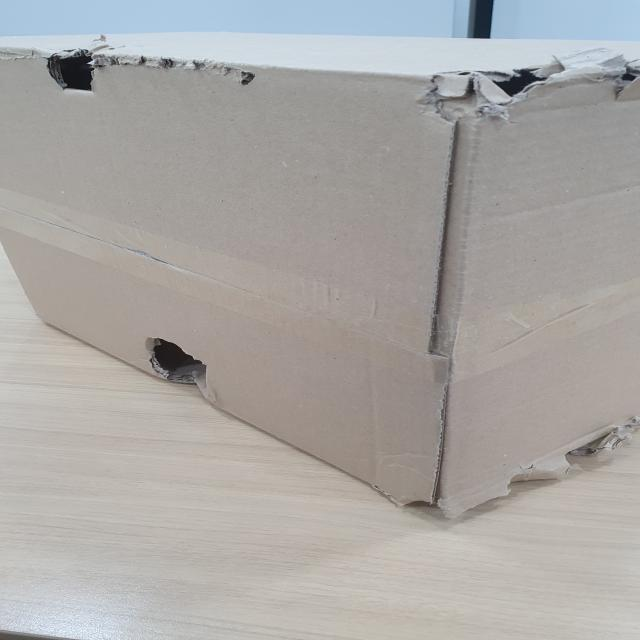hole: (447, 56, 640, 105), (128, 332, 231, 399), (32, 44, 140, 90), (529, 429, 626, 470)
